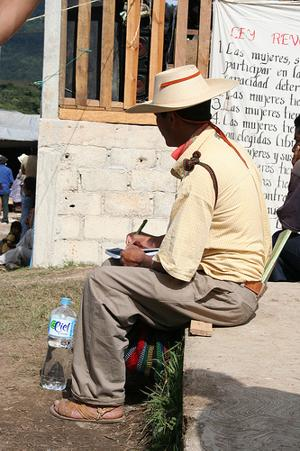person: (51, 66, 271, 423)
